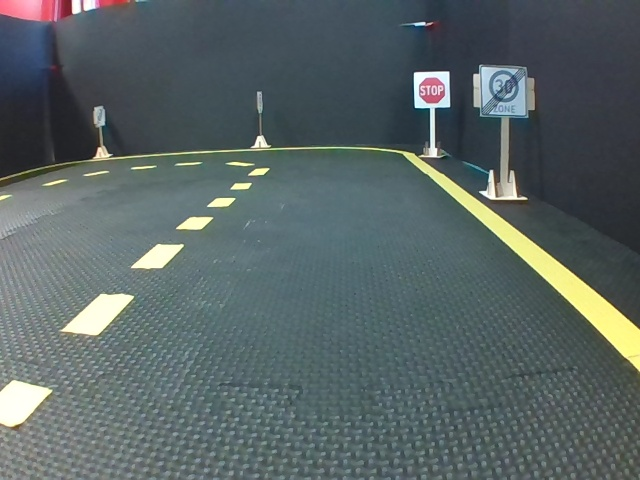30: (258, 93, 261, 113)
no30: (480, 67, 526, 114), (96, 107, 104, 125)
stop: (415, 71, 451, 108)
